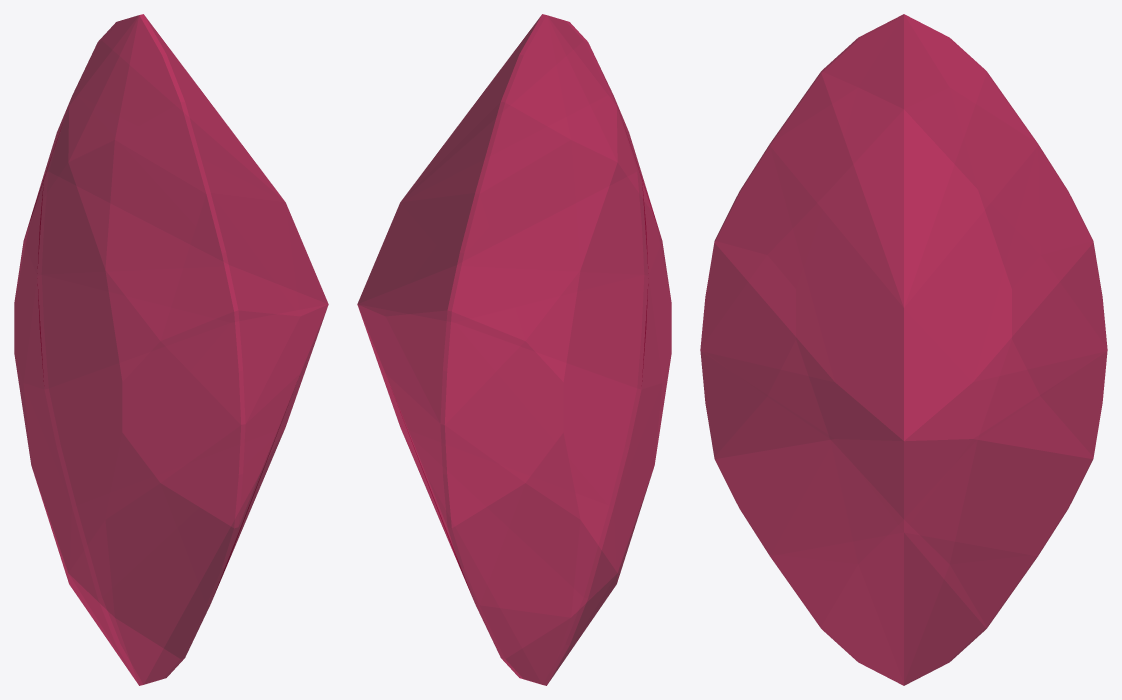
File: marquise spinell.glb
The picture shows the model from 3 angles, left to right: view 1: azimuth 30°, elevation 25°; view 2: azimuth 150°, elevation 25°; view 3: azimuth 270°, elevation 25°; orthographic projection.
Visible parts, largest first — view 1: Marquise; view 2: Marquise; view 3: Marquise.
Boxes of the visible parts, x1,y1,x2,y2 form: Marquise: (14, 14, 328, 685); Marquise: (357, 14, 671, 685); Marquise: (700, 14, 1107, 685).
Size of the model in its own units: 0.8446 by 2.08 by 1.15.
